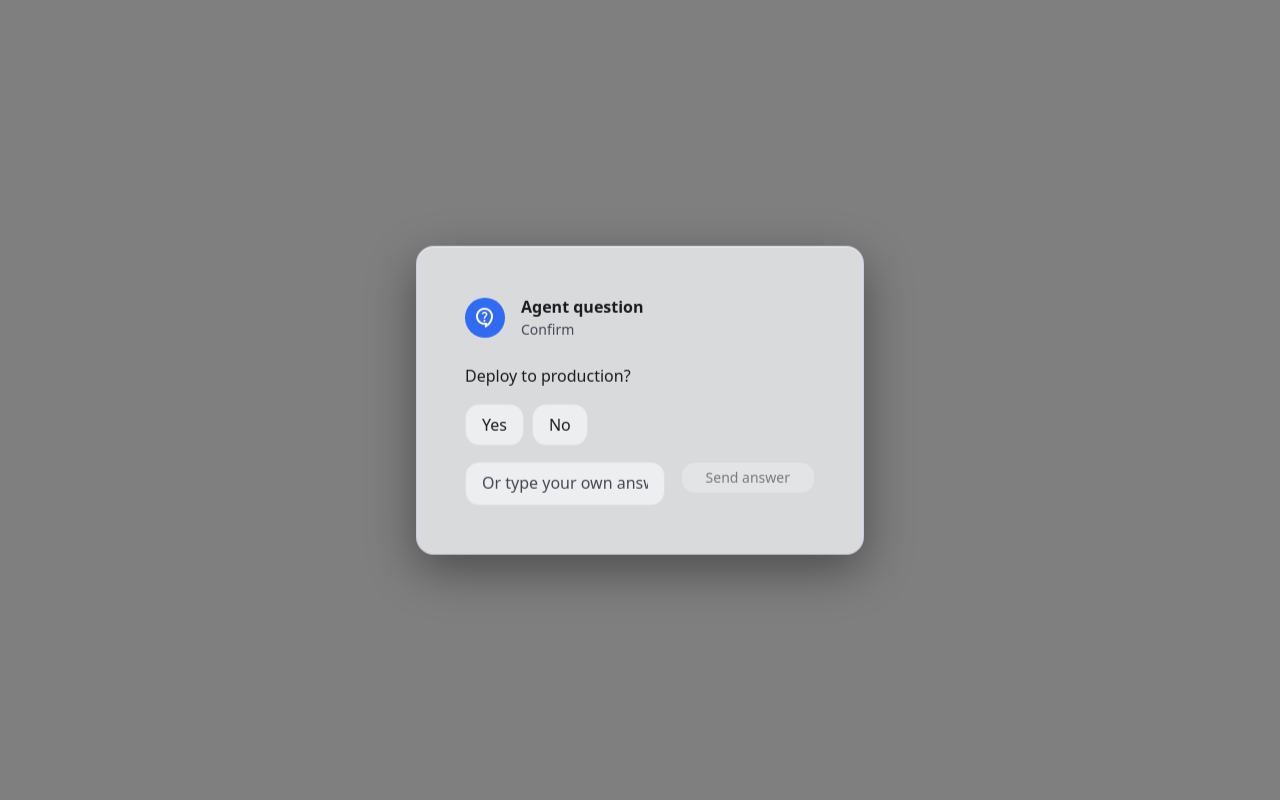
AskUserCard (Settings R3 T8 — desktop ask_user round-trip) › renders the question with options and answers a single-select click
The image size is (1280, 800).
Expected: the element with test id "ask-user-card" is shown, [465,296,815,505]
Expected: the text with test id "ask-user-question" reads "Deploy to production?", [465,365,631,387]
Click the button "Yes" at (494, 425), box [465,404,524,446]
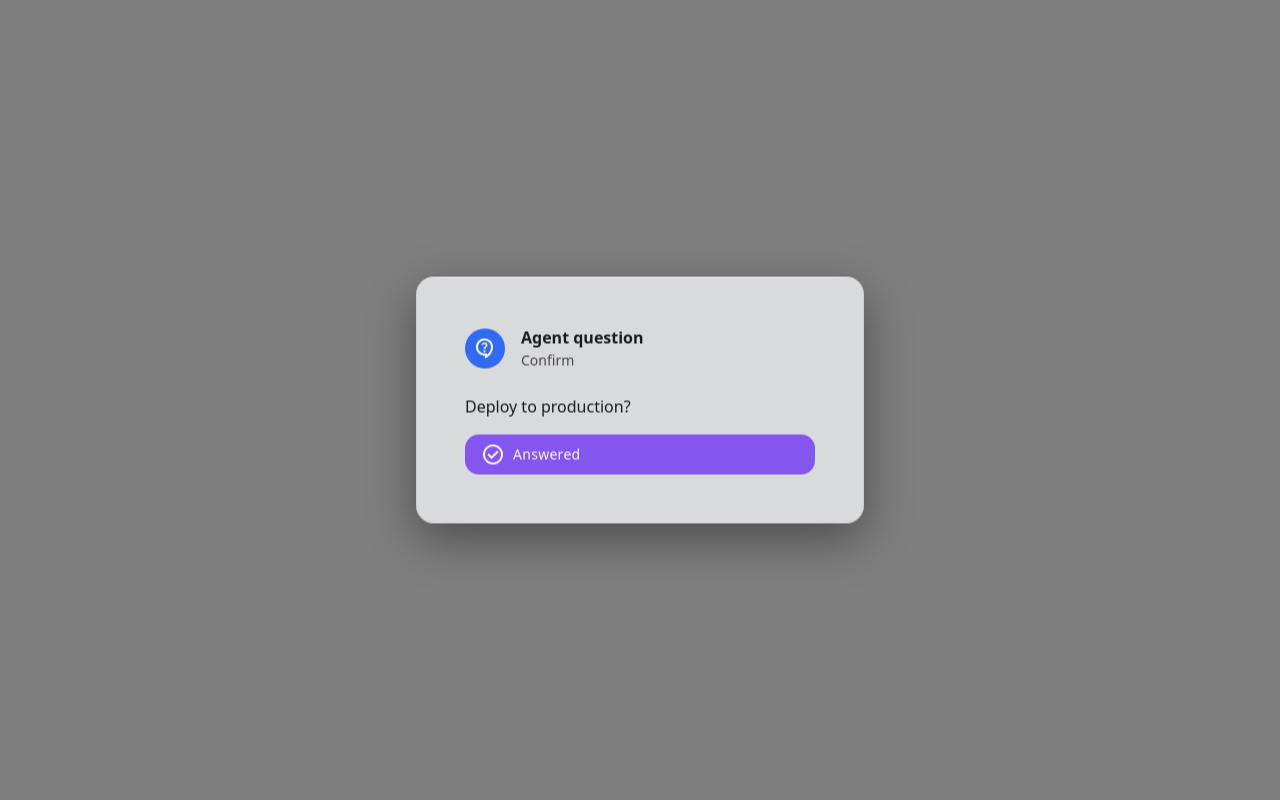
Expected: the message with test id "ask-user-status" reads "Answered", [513,444,580,464]
Expected: the button with test id "ask-user-send" is gone
